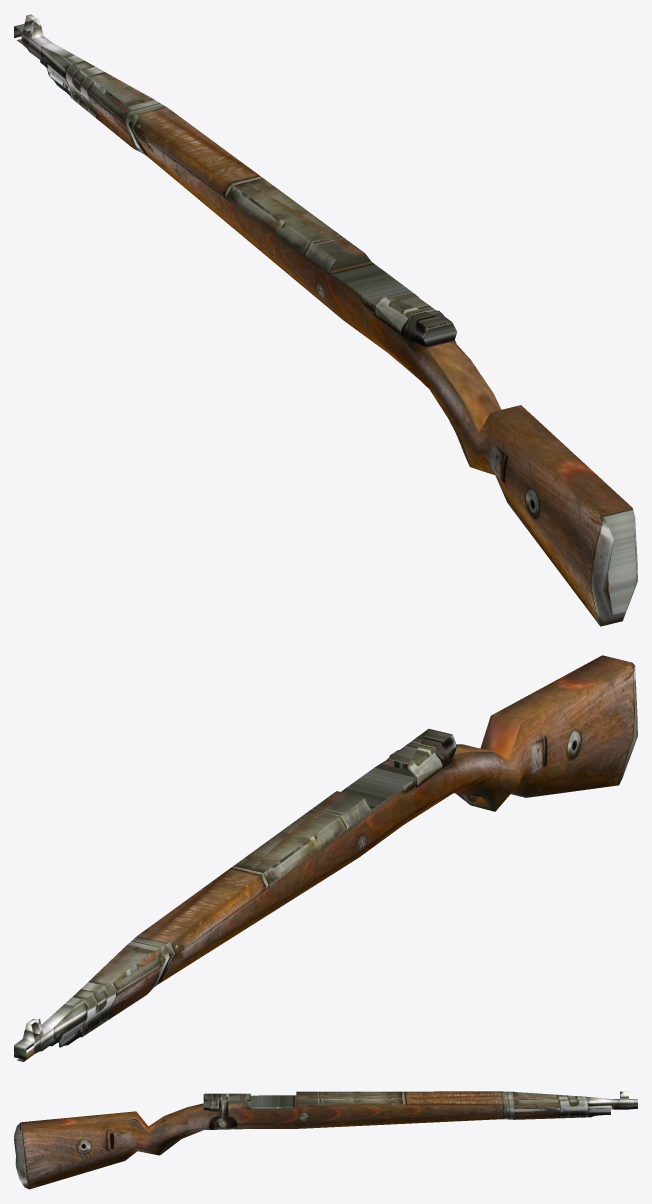
Rendered from Kar98.fbx.
3 renders of one model, top to bottom at view 1: azimuth 30°, elevation 25°; view 2: azimuth 150°, elevation 25°; view 3: azimuth 270°, elevation 25°, orthographic. The views are drawn at different scales.
Visible parts, largest first — view 1: Kar98; view 2: Kar98; view 3: Kar98.
Boxes of the visible parts, bbox=[...] form: Kar98: bbox=[14, 14, 637, 626]; Kar98: bbox=[14, 655, 637, 1061]; Kar98: bbox=[14, 1091, 637, 1189].
Bounding box in the file's own units: 0.0528 × 1.07 × 0.1792.
